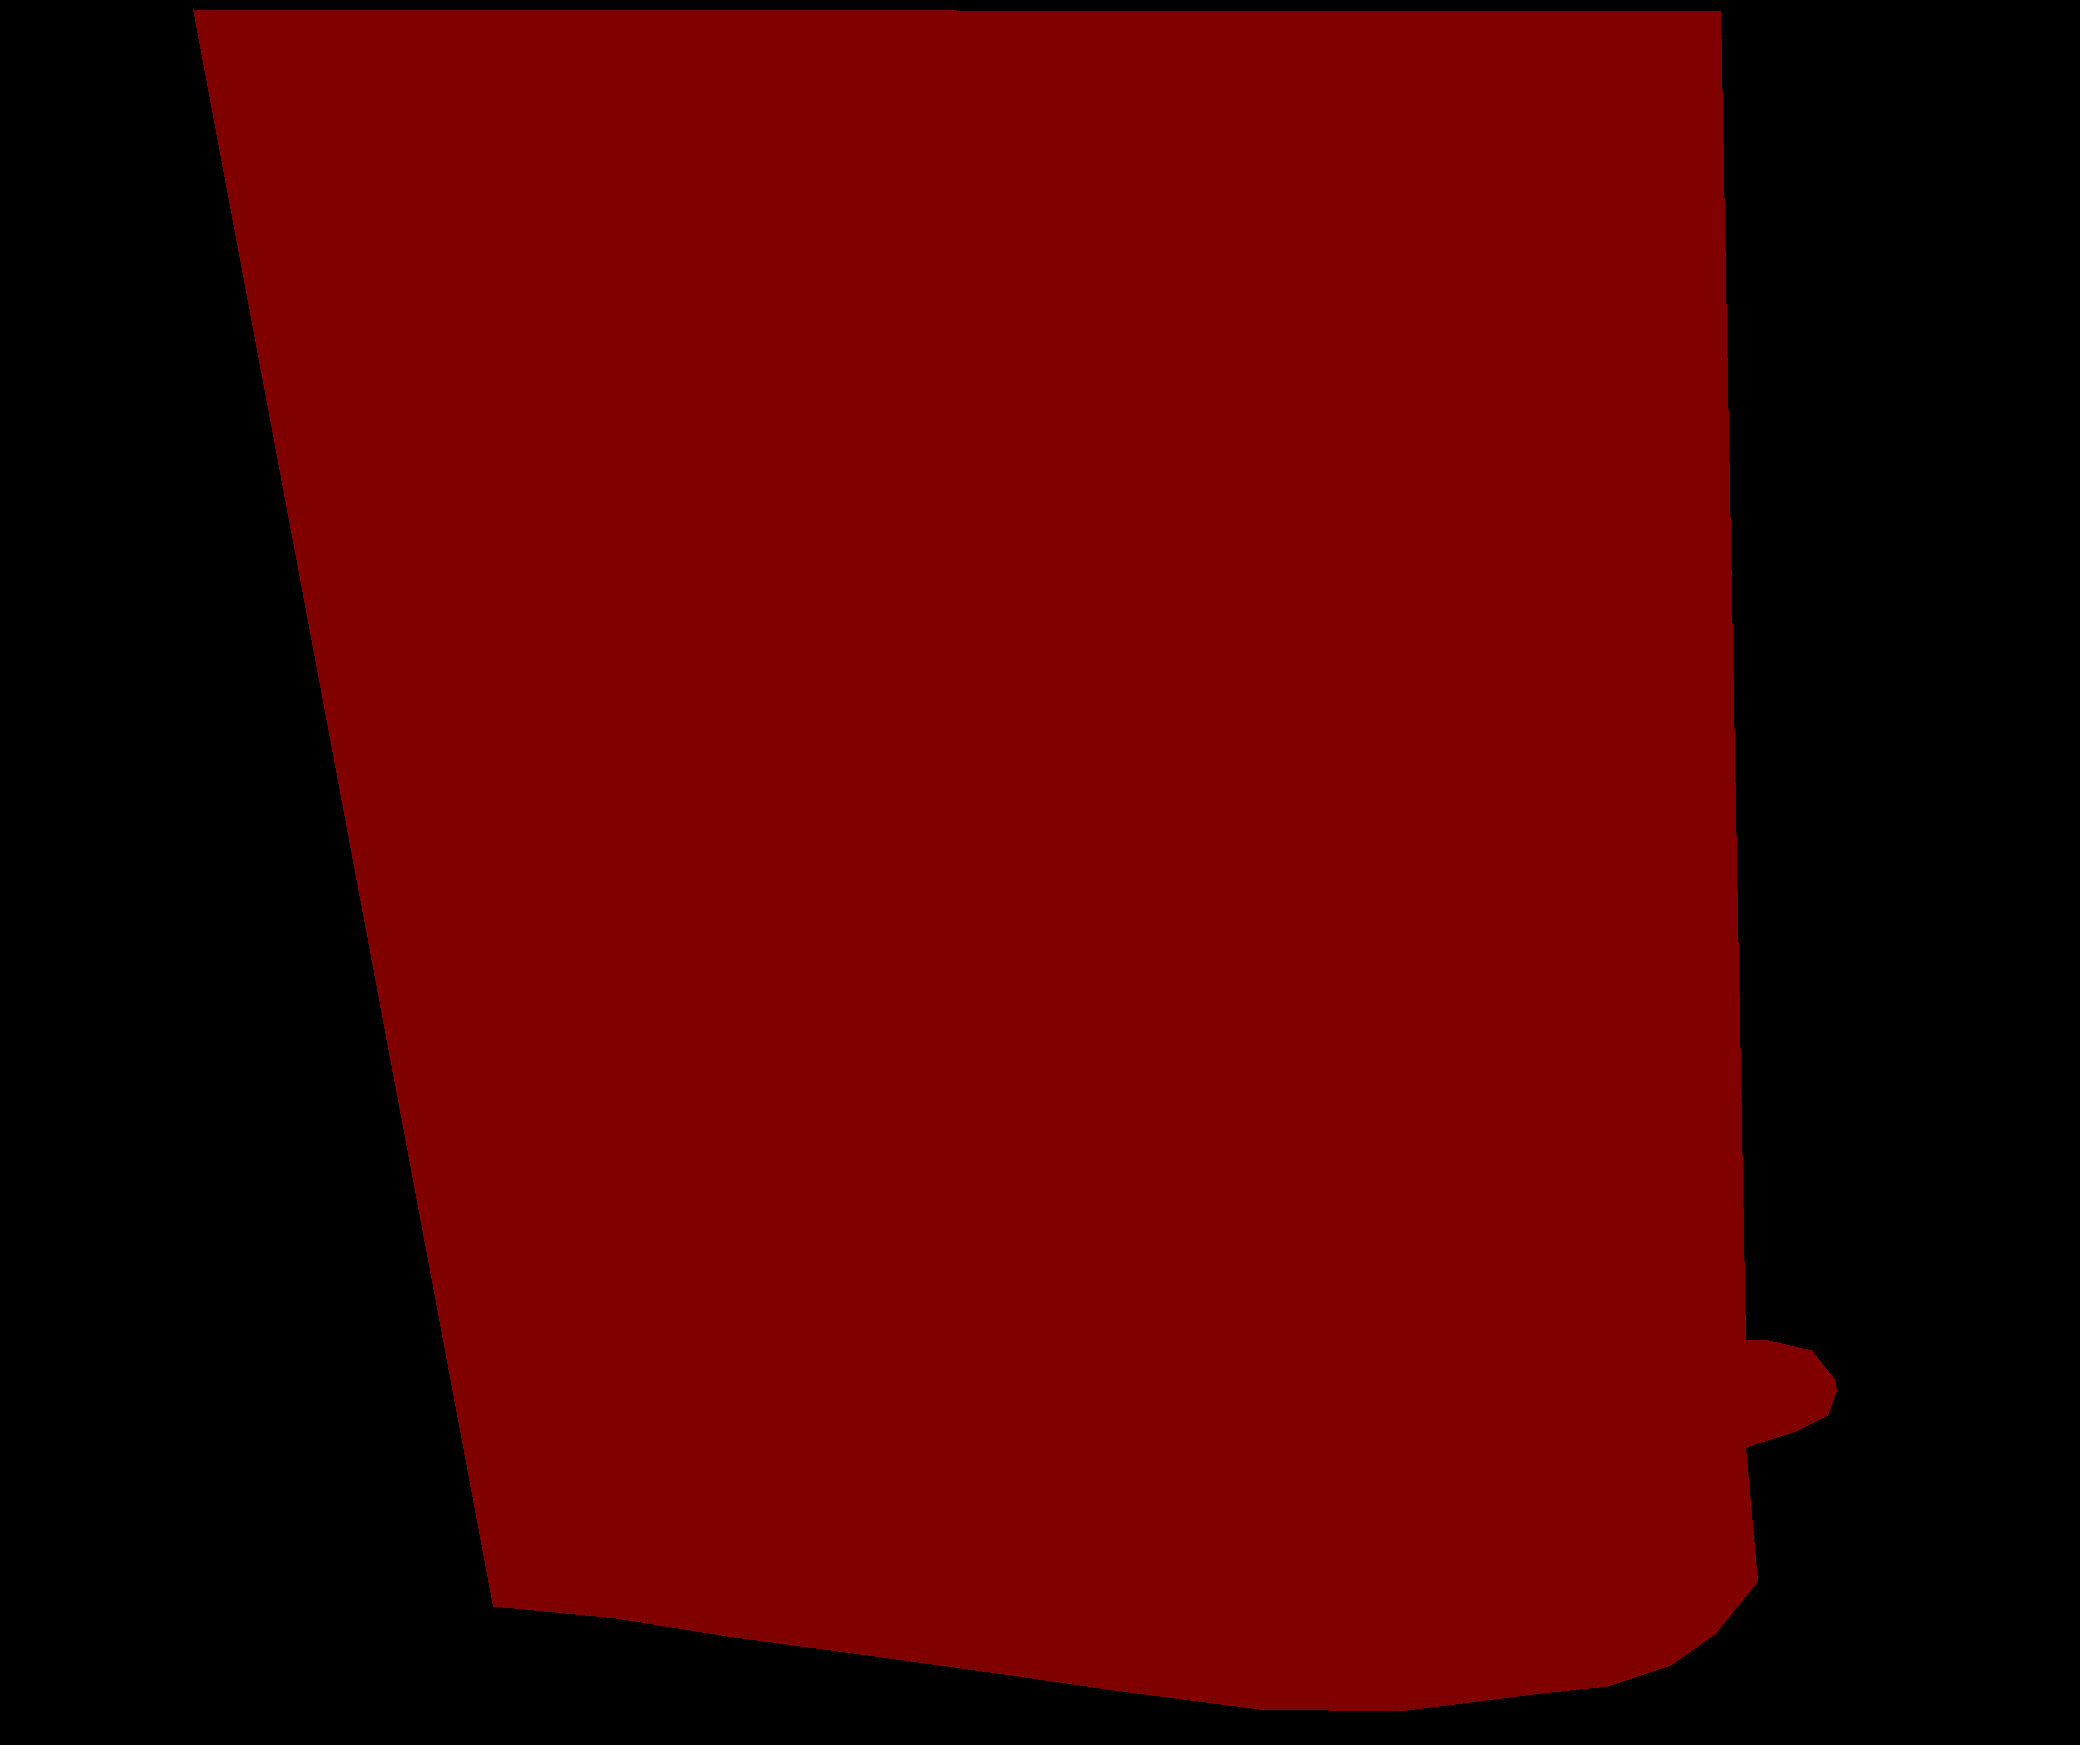sign: (194, 9, 1836, 1710)
